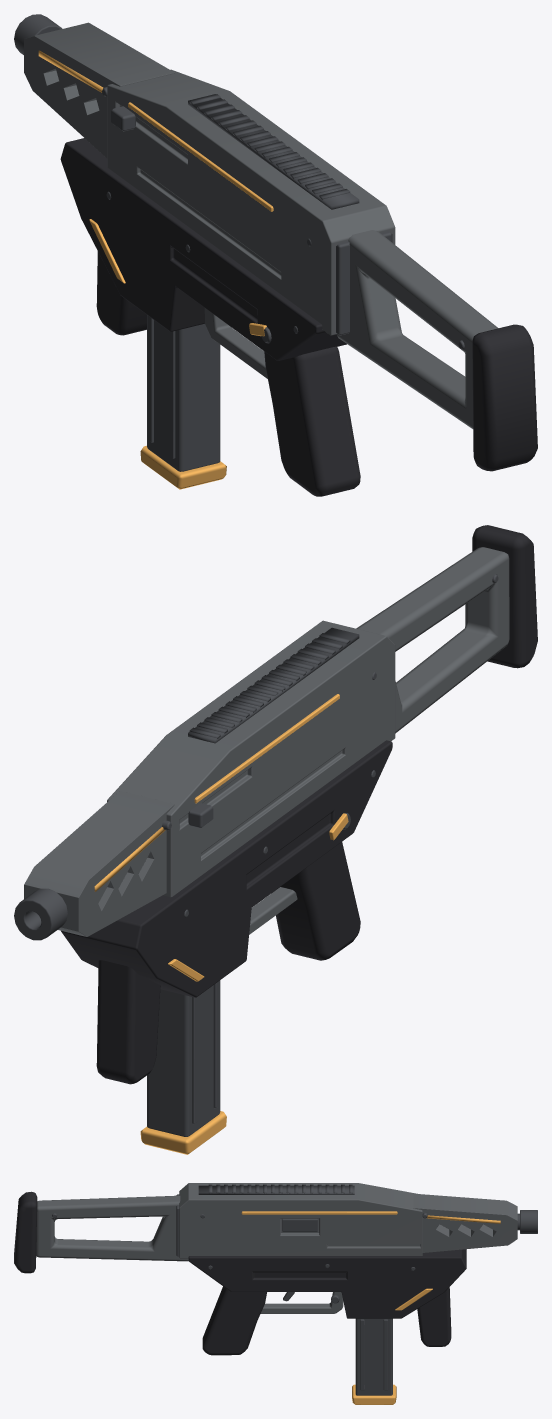
Rendered from vecta.glb.
The picture shows the model from 3 angles, top to bottom: view 1: azimuth 30°, elevation 25°; view 2: azimuth 150°, elevation 25°; view 3: azimuth 270°, elevation 25°; orthographic projection. The views are drawn at different scales.
Visible parts, largest first — view 1: vupper, vlower, vstock, mag.007, vgrip, vnose, vbuttpad, vrail, vfgrip, vguard, vstockcollar, vsideacc0 (+1 smaller); view 2: vupper, vlower, vstock, vnose, mag.007, vfgrip, vgrip, vrail, vbuttpad, vmuzzle, vguard, vsideacc0; view 3: vupper, vlower, vstock, vnose, mag.007, vgrip, vbuttpad, vrail, vfgrip, vguard, vsideacc1, vbreech (+2 smaller).
Part boxes in pixels (box(x1,y1,x2,y2)): vupper: box(107, 69, 395, 335); vlower: box(60, 138, 346, 360); vstock: box(336, 230, 498, 428); mag.007: box(140, 315, 226, 489); vgrip: box(264, 346, 360, 496); vnose: box(24, 22, 174, 158); vbuttpad: box(472, 324, 537, 471); vrail: box(188, 94, 359, 209); vfgrip: box(96, 251, 146, 335); vguard: box(204, 308, 267, 378); vstockcollar: box(336, 231, 392, 335); vsideacc0: box(128, 102, 273, 211); vupper: box(107, 620, 395, 897); vlower: box(61, 740, 392, 997); vstock: box(356, 547, 509, 733); vnose: box(24, 790, 174, 936); mag.007: box(140, 980, 226, 1154); vfgrip: box(96, 960, 160, 1084); vgrip: box(272, 842, 360, 960); vrail: box(188, 627, 359, 743); vbuttpad: box(472, 525, 537, 668); vmuzzle: box(14, 888, 67, 940); vguard: box(249, 887, 297, 934); vsideacc0: box(194, 694, 339, 803); vupper: box(179, 1183, 422, 1258); vlower: box(188, 1249, 466, 1318); vstock: box(36, 1195, 188, 1261); vnose: box(413, 1193, 517, 1252); mag.007: box(352, 1318, 396, 1404); vgrip: box(202, 1286, 266, 1355); vbuttpad: box(14, 1191, 37, 1273); vrail: box(198, 1184, 354, 1194); vfgrip: box(417, 1287, 451, 1346); vguard: box(260, 1292, 343, 1313); vsideacc1: box(241, 1211, 397, 1214); vbreech: box(282, 1218, 317, 1231).
Bounding box in the file's own units: 0.071 × 0.2985 × 0.672.
